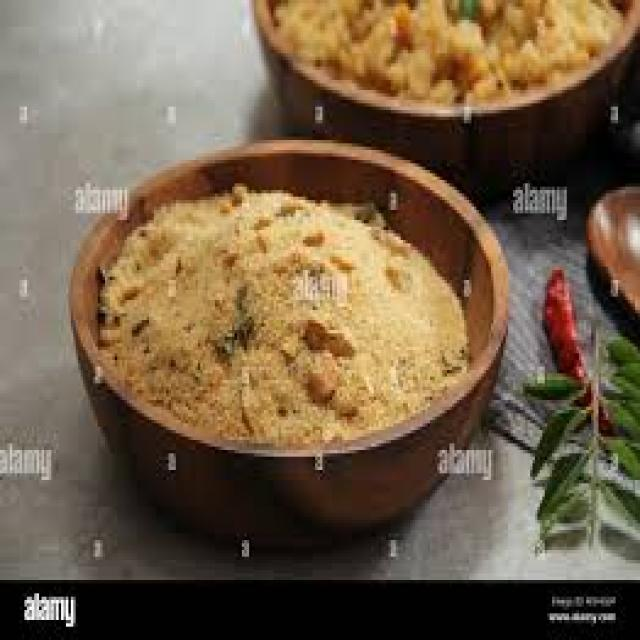ROTI: (95, 190, 467, 443)
